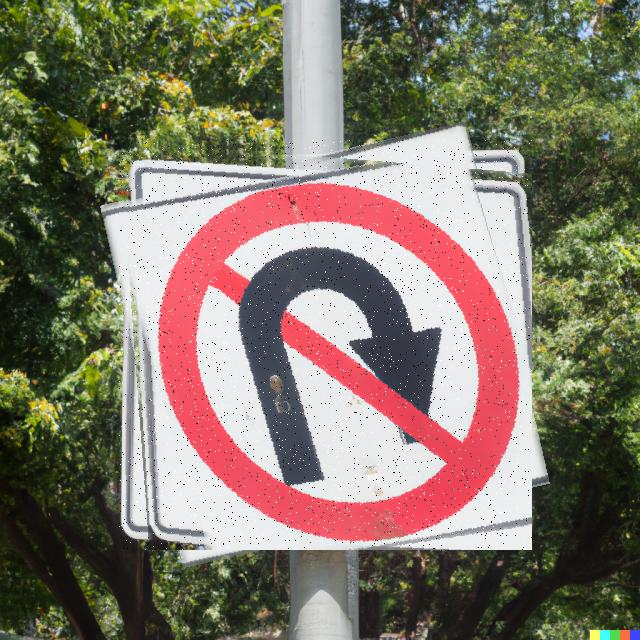no u turn: (119, 140, 532, 550)
